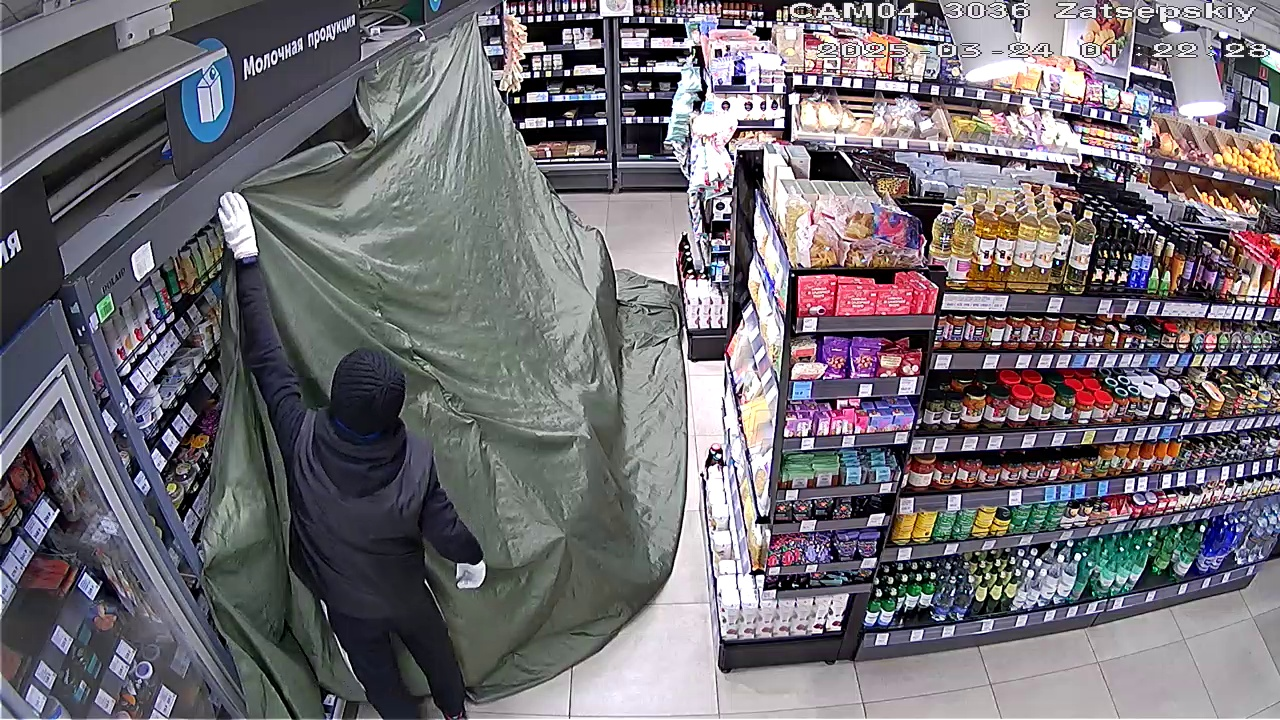Human: (185, 180, 475, 715)
dome: (194, 32, 690, 703)
